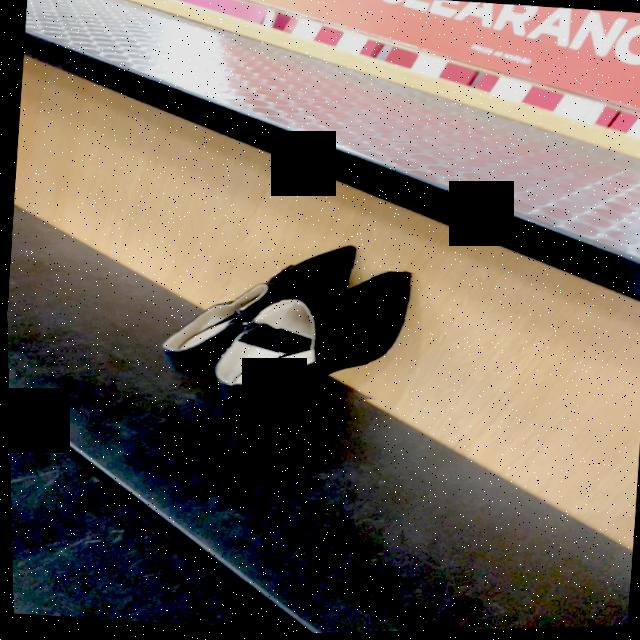shoe: (207, 272, 412, 396)
